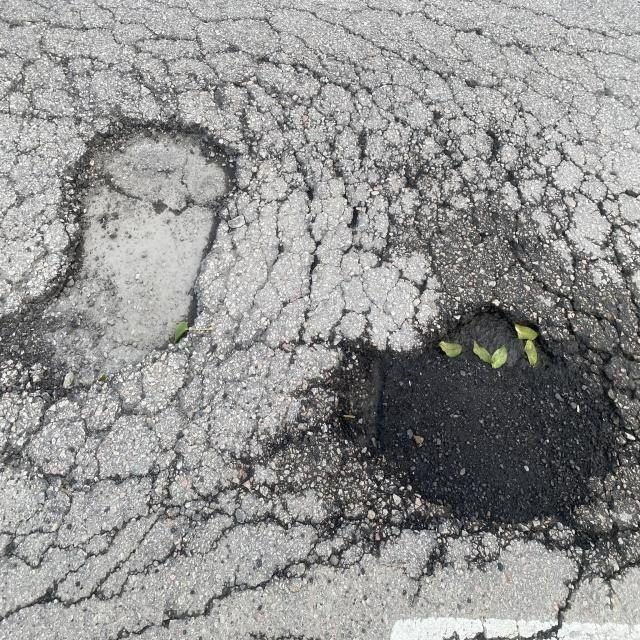pothole: (0, 81, 287, 467), (329, 266, 640, 535)
